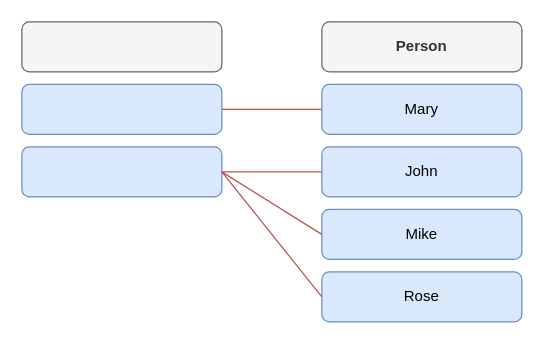
The diagram is 544 pixels wide and 344 high, and some of its shapes have lost their labels. Here are the shapes that lost their labels. From the top down, the centre of each, then its label:
(x=121, y=46): WorkPlace
(x=121, y=108): Marketing
(x=121, y=171): IT
